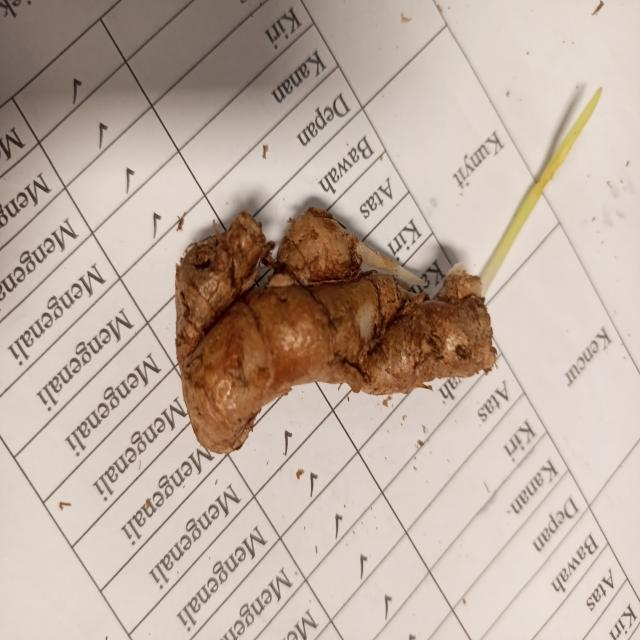ginger: (177, 215, 497, 443)
